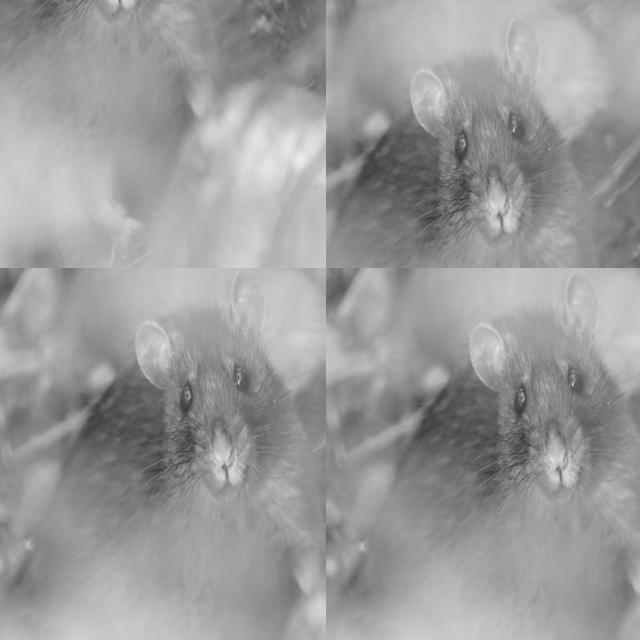rat: (353, 269, 640, 640), (0, 268, 90, 541), (326, 100, 463, 268)
